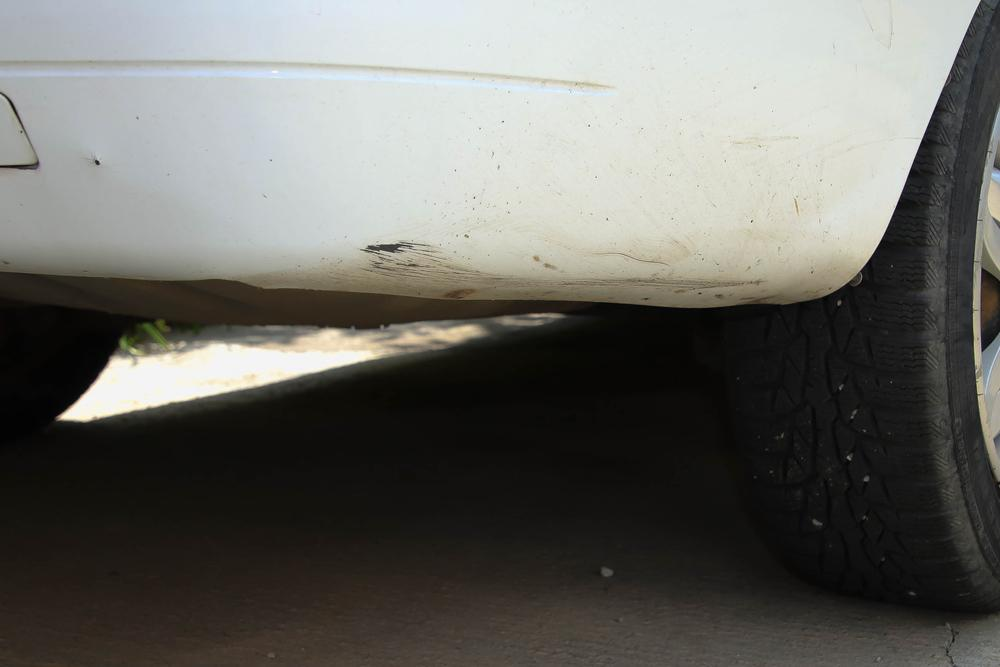scratch: (351, 232, 768, 305)
